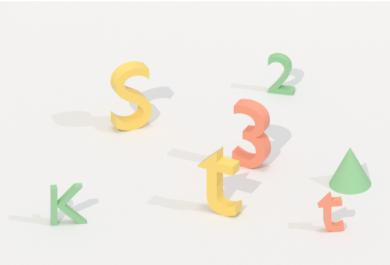0-TamGiac: (328, 144, 374, 198)
2: (263, 48, 298, 100)
3: (228, 95, 274, 171)
K: (46, 181, 90, 228)
S: (108, 58, 157, 135)
t: (196, 142, 245, 219), (316, 188, 348, 237)
